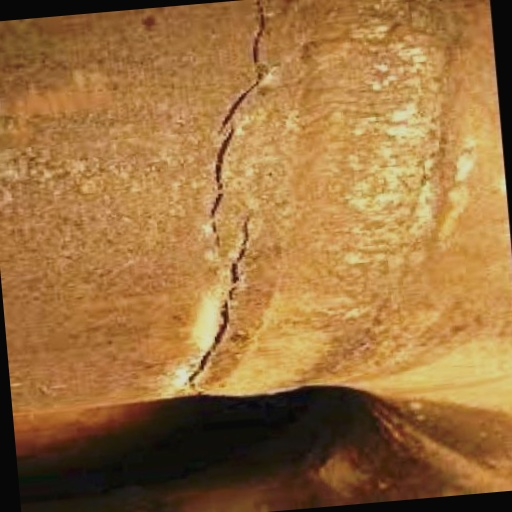crack: (146, 0, 312, 391)
